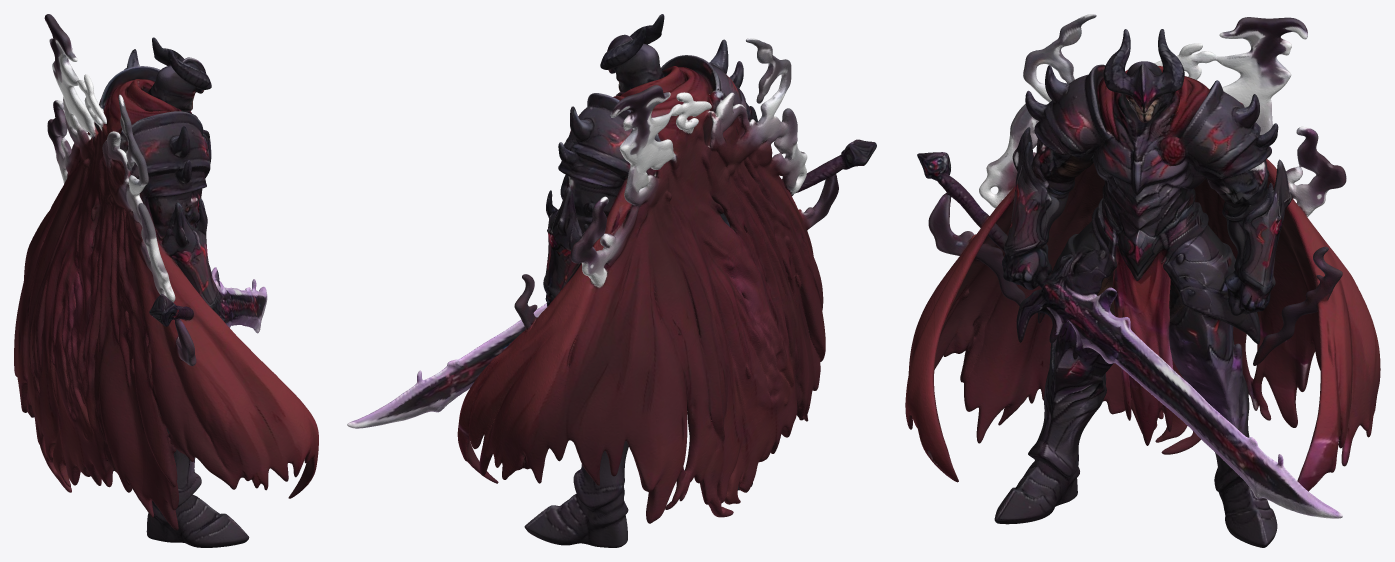
Rendered from dark-knight.glb.
3 renders of one model, left to right at view 1: azimuth 30°, elevation 25°; view 2: azimuth 150°, elevation 25°; view 3: azimuth 270°, elevation 25°, orthographic. The views are drawn at different scales.
Visible parts, largest first — view 1: tripo_node_db60b09a-1e31-4540-95ab-333759acf867; view 2: tripo_node_db60b09a-1e31-4540-95ab-333759acf867; view 3: tripo_node_db60b09a-1e31-4540-95ab-333759acf867.
Part boxes in pixels (x1,y1,x2,y2): tripo_node_db60b09a-1e31-4540-95ab-333759acf867: (14, 14, 318, 547); tripo_node_db60b09a-1e31-4540-95ab-333759acf867: (347, 14, 876, 547); tripo_node_db60b09a-1e31-4540-95ab-333759acf867: (905, 14, 1380, 547).
Size of the model in its own units: 0.6934 by 1 by 0.8808.
1 material, 1 textured.
